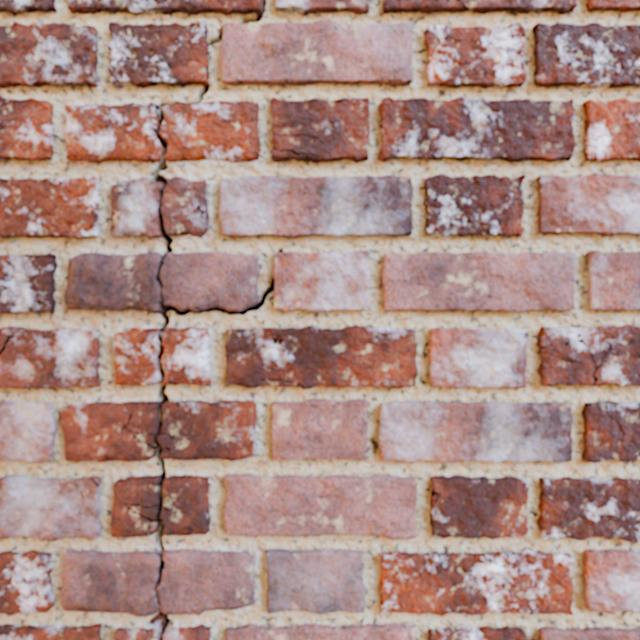broken_brick: (60, 549, 254, 616), (64, 251, 258, 312), (160, 100, 259, 162), (158, 400, 258, 460), (61, 401, 158, 462), (64, 102, 160, 162), (110, 176, 161, 237), (160, 475, 210, 535), (111, 475, 159, 537), (161, 327, 211, 385), (161, 177, 209, 237), (113, 327, 158, 385), (163, 624, 210, 639), (114, 627, 157, 639), (127, 505, 157, 519), (132, 433, 154, 445)
crack: (67, 0, 413, 288), (121, 248, 369, 593), (379, 549, 574, 616), (378, 96, 575, 162), (224, 474, 416, 539), (218, 175, 413, 238), (225, 325, 417, 388), (377, 401, 573, 462), (382, 251, 575, 311), (532, 22, 639, 87), (537, 476, 639, 543), (424, 22, 526, 88), (0, 475, 101, 541), (266, 548, 365, 614), (0, 22, 99, 88), (270, 97, 370, 162), (536, 324, 639, 386), (537, 173, 639, 235), (0, 326, 100, 389), (430, 475, 528, 539), (424, 174, 525, 236), (0, 177, 100, 238), (428, 327, 527, 388), (272, 398, 367, 460), (583, 549, 639, 614), (583, 98, 639, 162), (581, 401, 639, 462), (0, 96, 54, 161), (0, 550, 54, 615), (0, 253, 57, 314), (0, 401, 57, 462), (586, 250, 639, 310), (226, 623, 414, 639), (383, 0, 576, 14), (0, 623, 101, 639), (275, 0, 370, 15), (539, 626, 639, 639), (428, 626, 527, 639), (0, 0, 56, 15), (146, 609, 173, 639), (586, 0, 639, 11), (183, 193, 206, 218), (111, 199, 112, 226), (193, 327, 206, 328), (111, 184, 112, 196)
